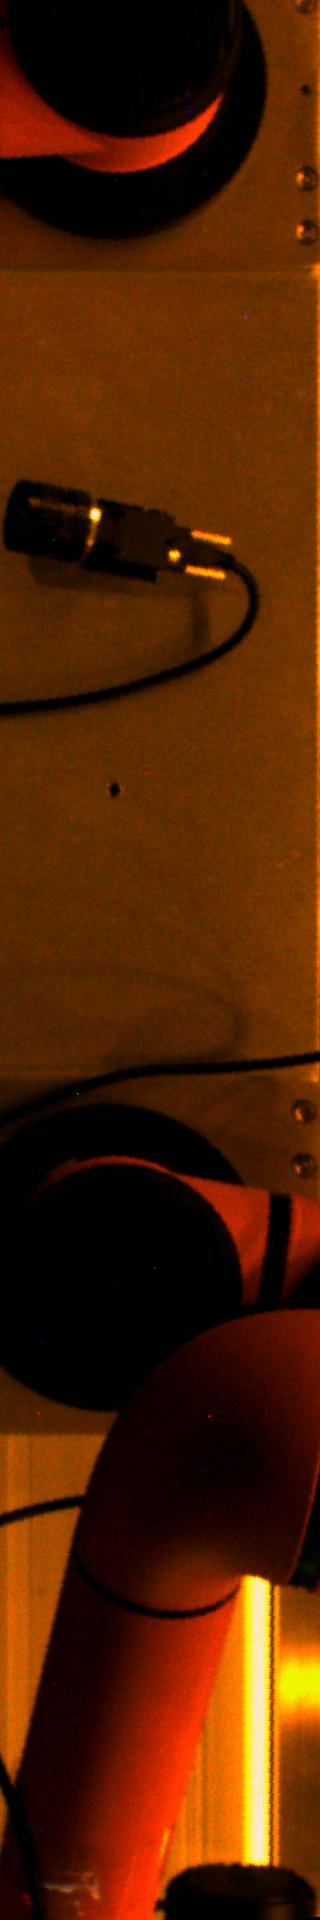keyPoint_2: (98, 776, 128, 806)
